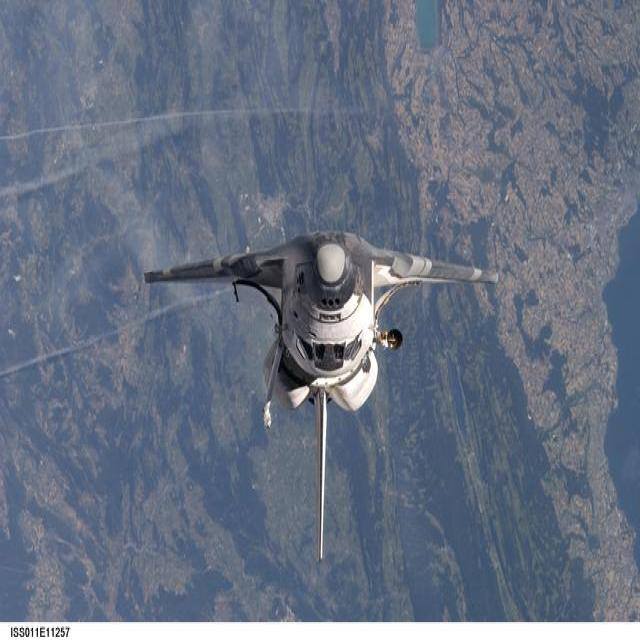medium_debris: (146, 232, 498, 560)
